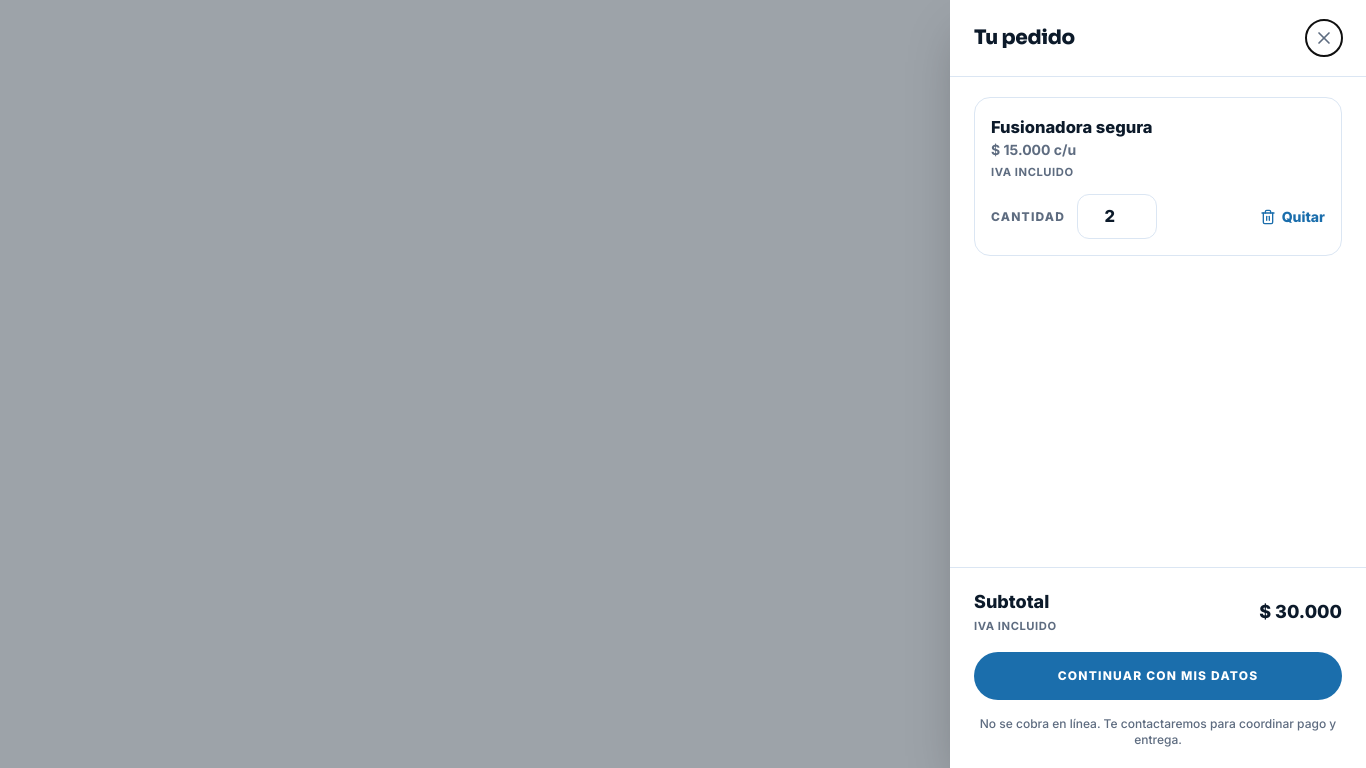
Test case: CartDrawer cart step › rejects an invalid quantity with an alert and leaves the cart untouched
The image size is (1366, 768).
Replace the text in the number field labelled "Cantidad" with "0" at x=1117, y=216, box 1077,194 -> 1157,239
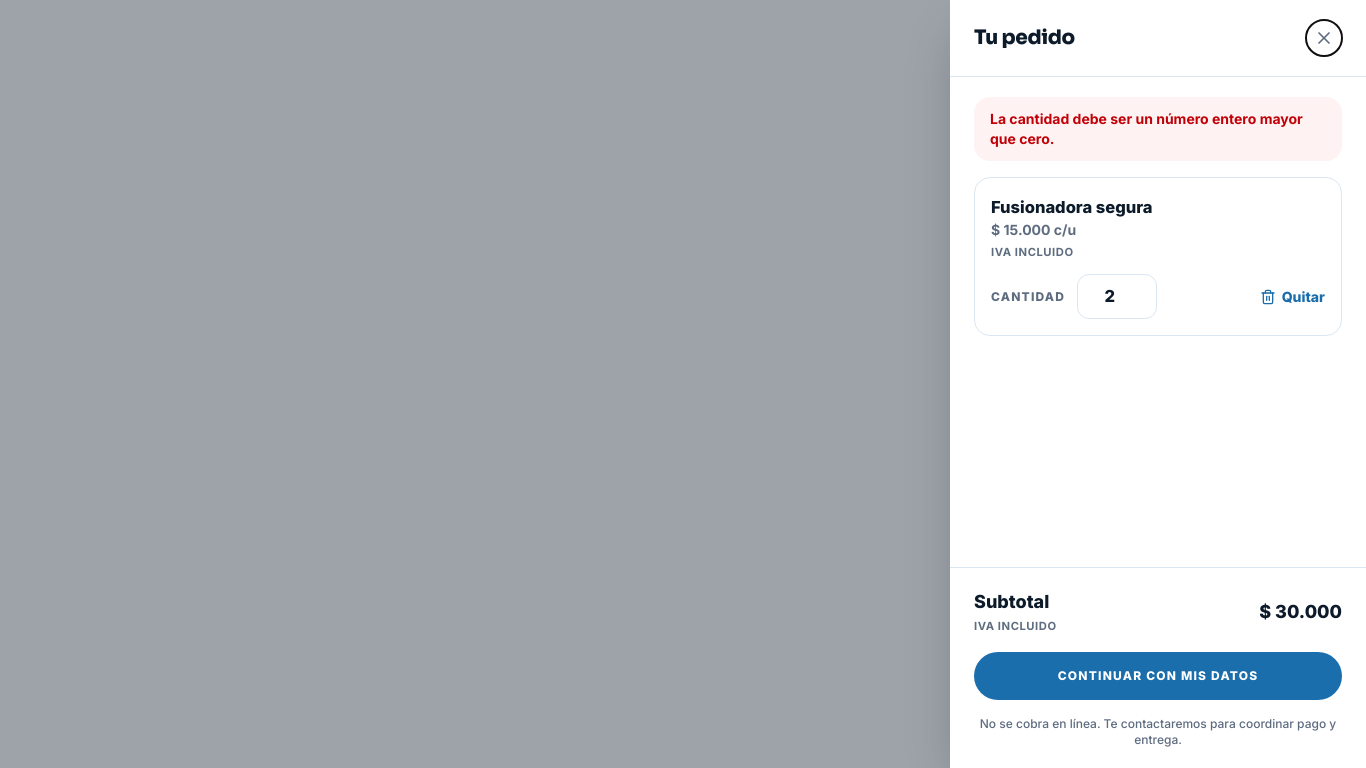
Expected: the message reads "La cantidad debe ser un número entero mayor que cero.", 990,110 -> 1303,147
Replace the text in the number field labelled "Cantidad" with "4" at x=1117, y=296, box 1077,274 -> 1157,319
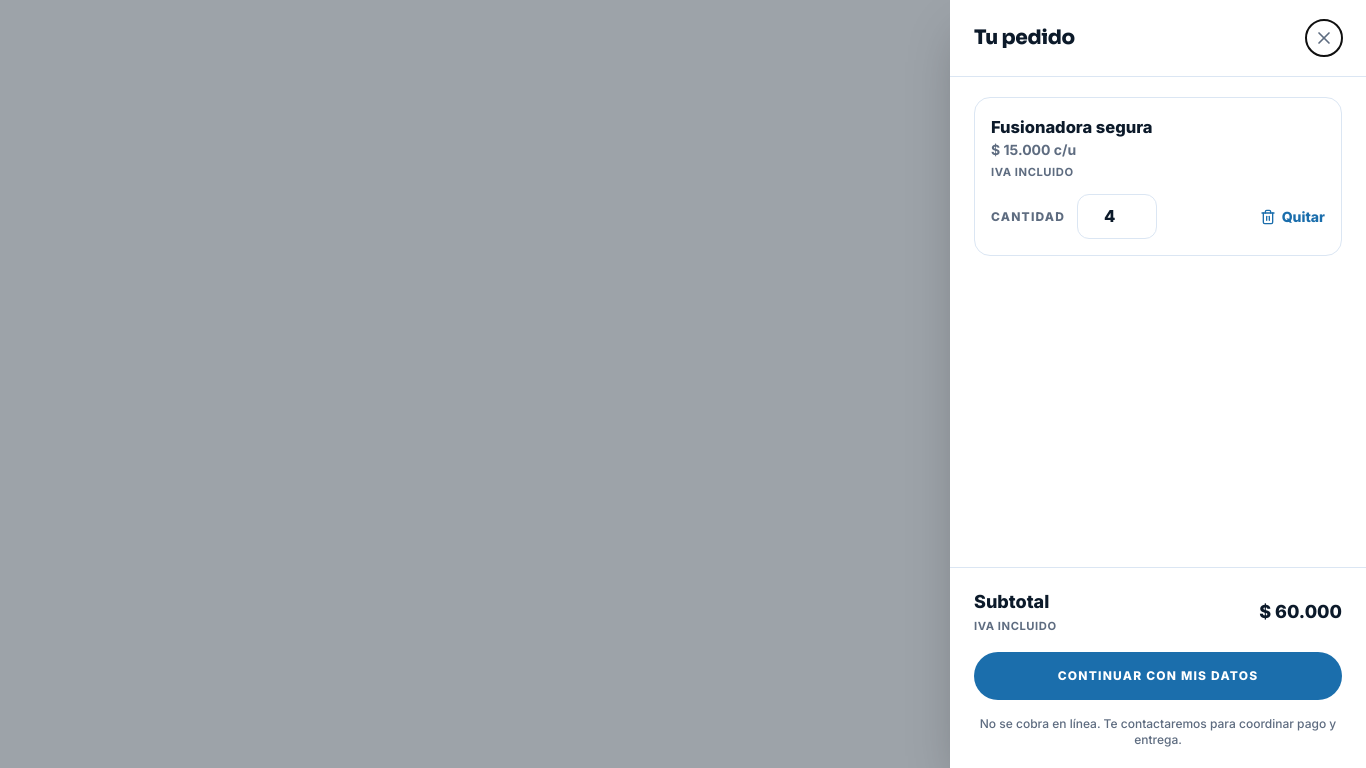
Expected: the message "La cantidad debe ser un número entero mayor que cero." is gone
